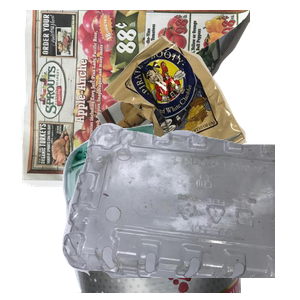glass: (60, 120, 300, 300)
paper: (18, 10, 258, 190)
plastic: (60, 120, 300, 300)
trash: (101, 33, 300, 206)
